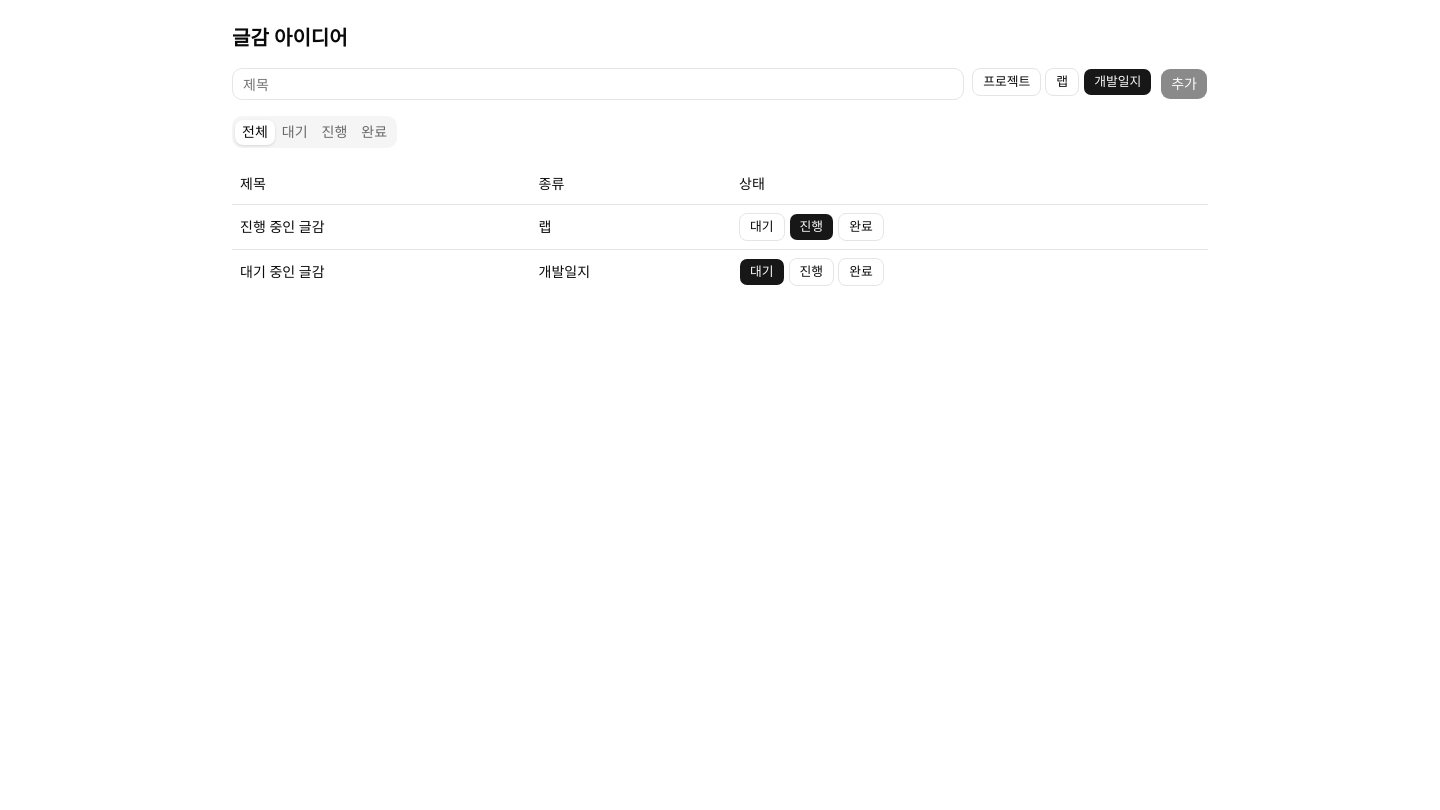
Test case: IdeasPage 수정 › 예외 › 수정 저장이 실패하면 수정 다이얼로그 안에 오류 문구가 보이고 입력이 유지되며 다시 저장해 성공할 수 있어야 한다
This screenshot has width=1440, height=810.
Click the text "진행 중인 글감": (282, 226) [232,204,531,249]
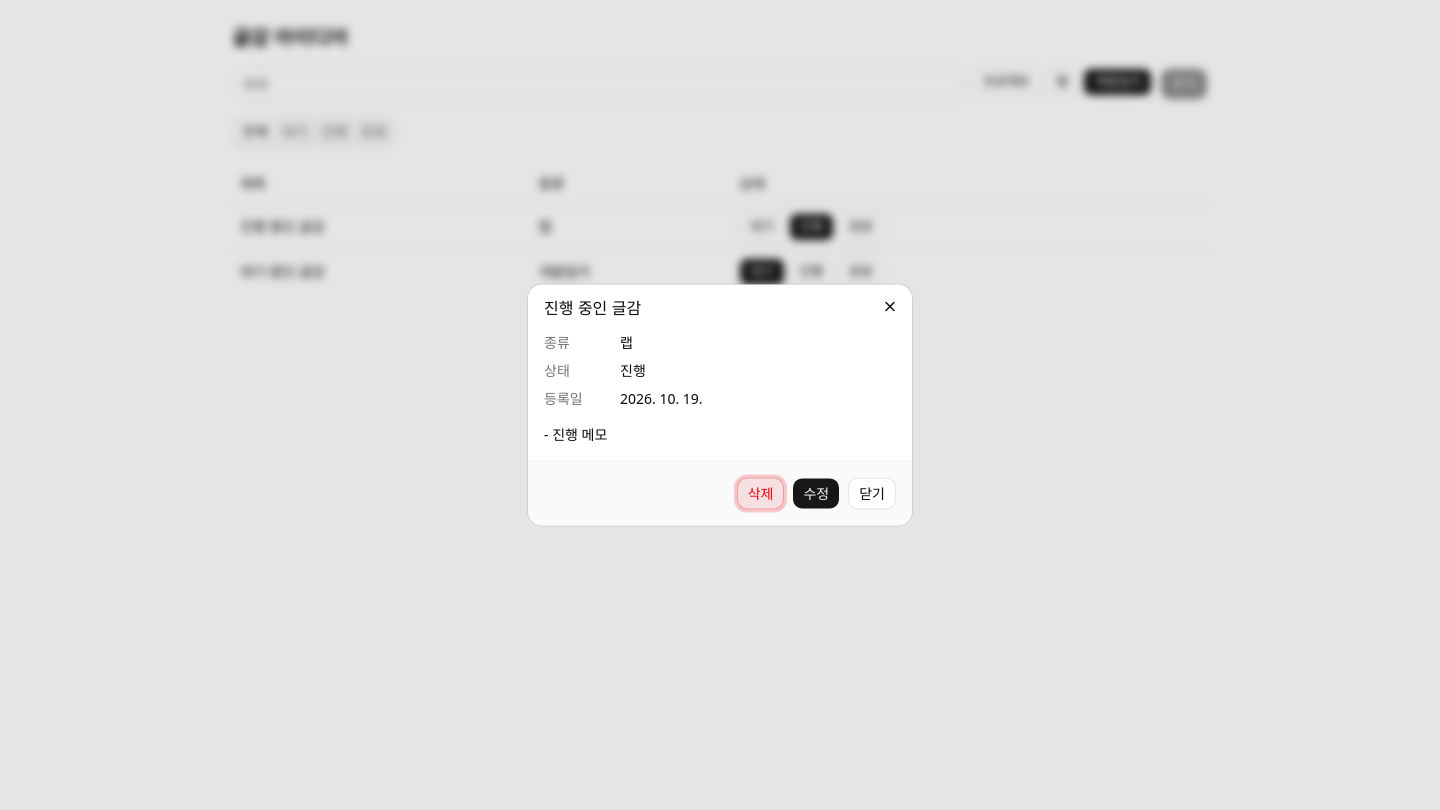
Click the button "수정": (816, 494) [792,478,840,510]
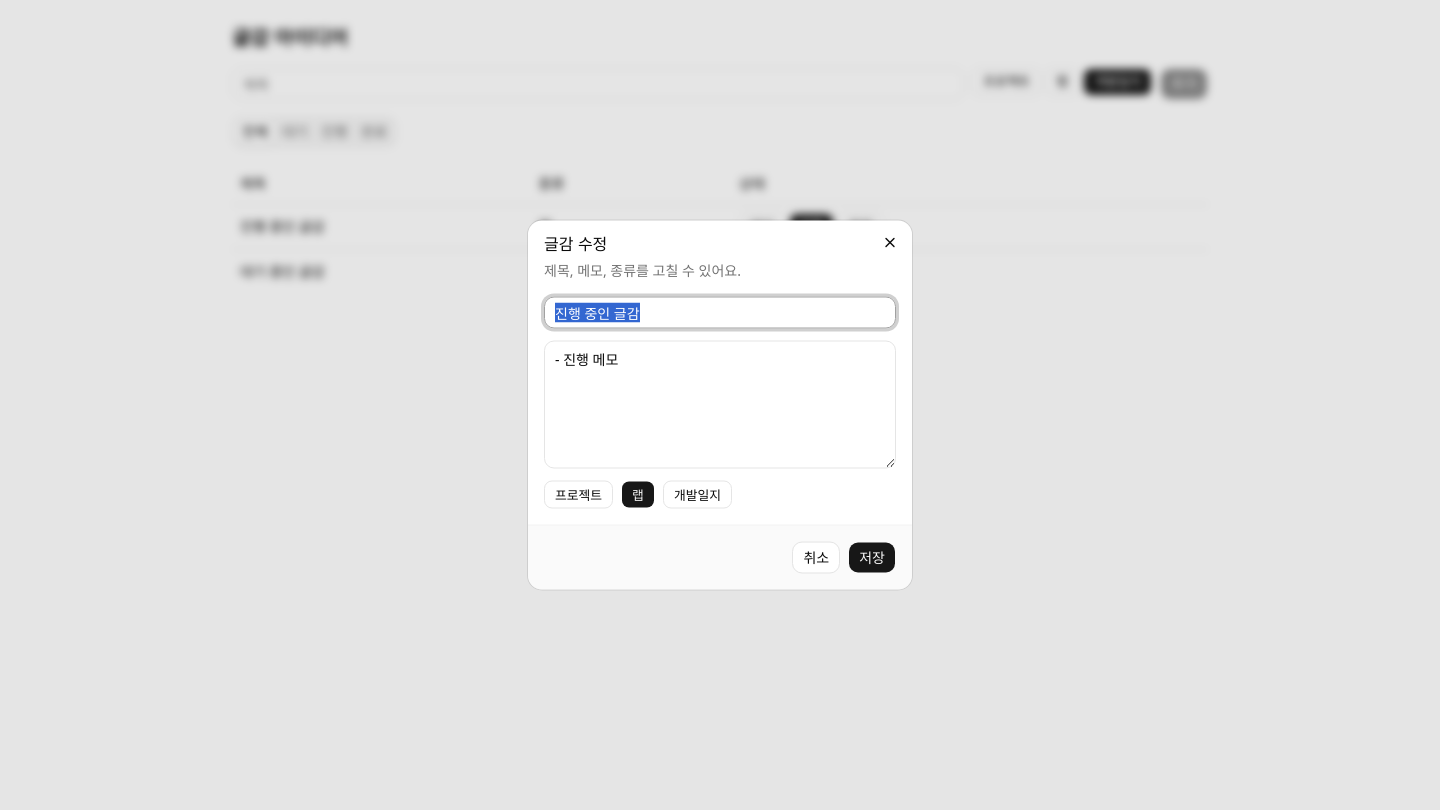
expect the button "저장" is shown: met, box [848,542,896,574]
Replace the text in the field with placeholder "제목" with "다시 저장할 제목": (720, 312) [544,296,896,328]
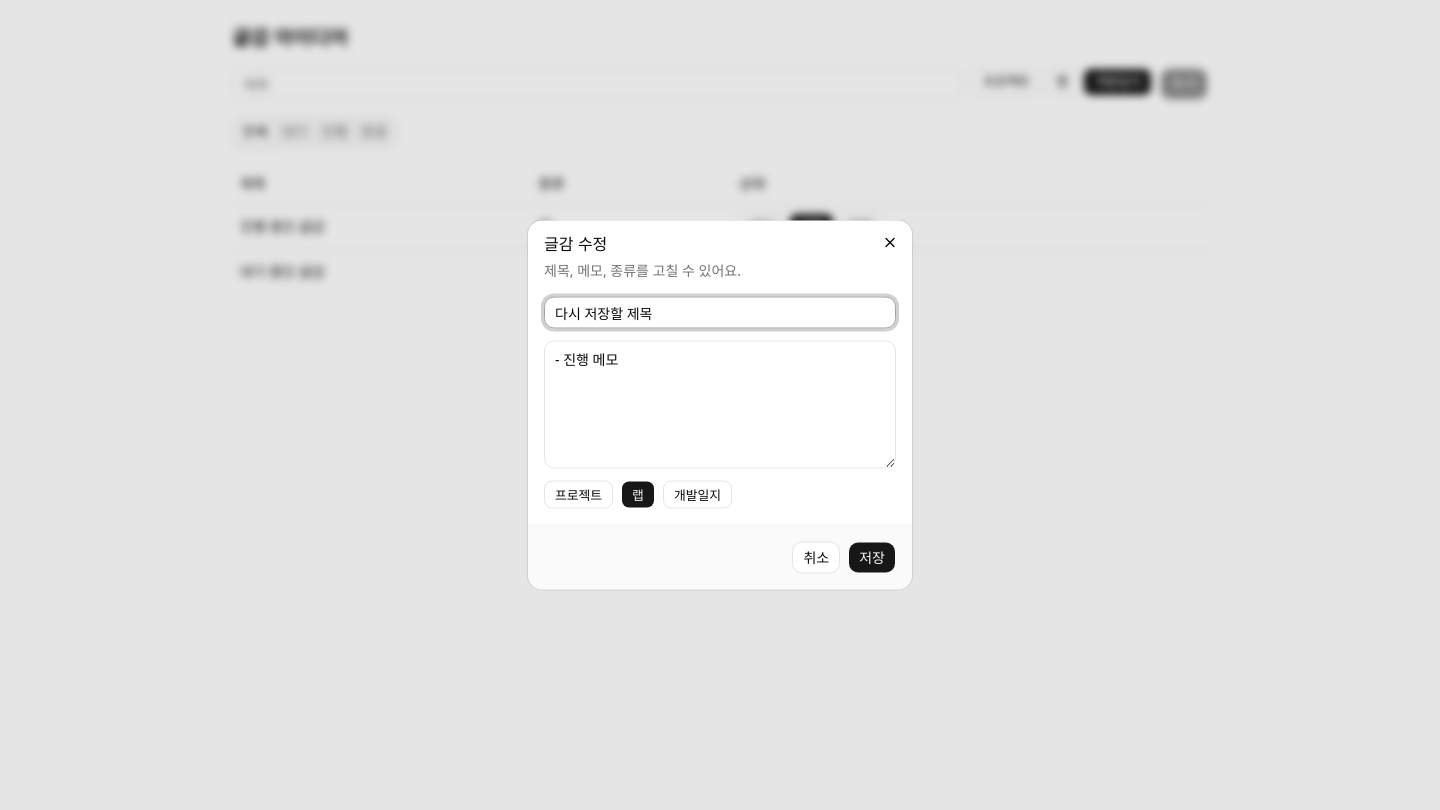
Click the button "저장": (872, 558) [848,542,896,574]
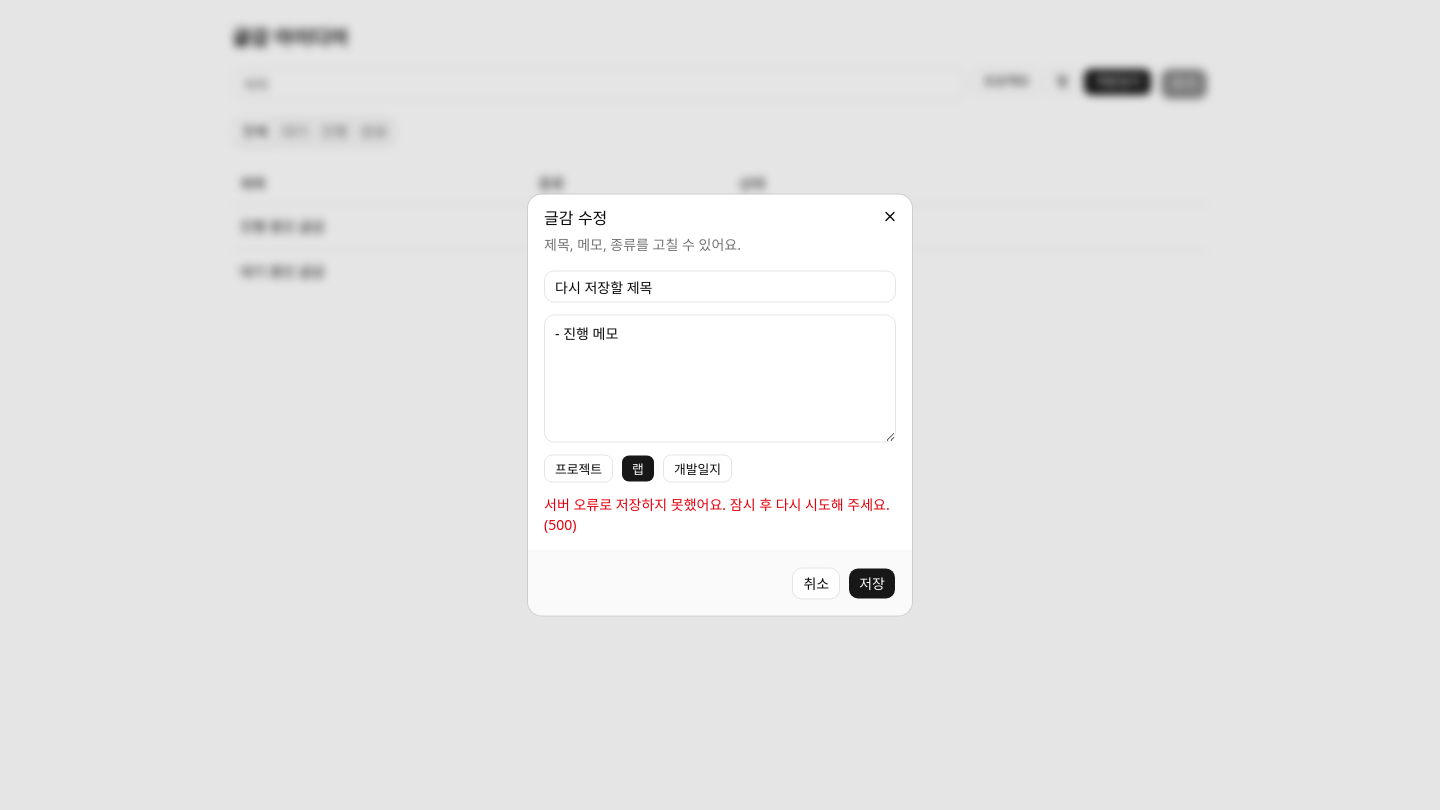
expect the message reads "서버 오류로 저장하지 못했어요. 잠시 후 다시 시도해 주세요. (500)": met, box [544,494,890,534]
Click the button "저장": (872, 584) [848,568,896,600]
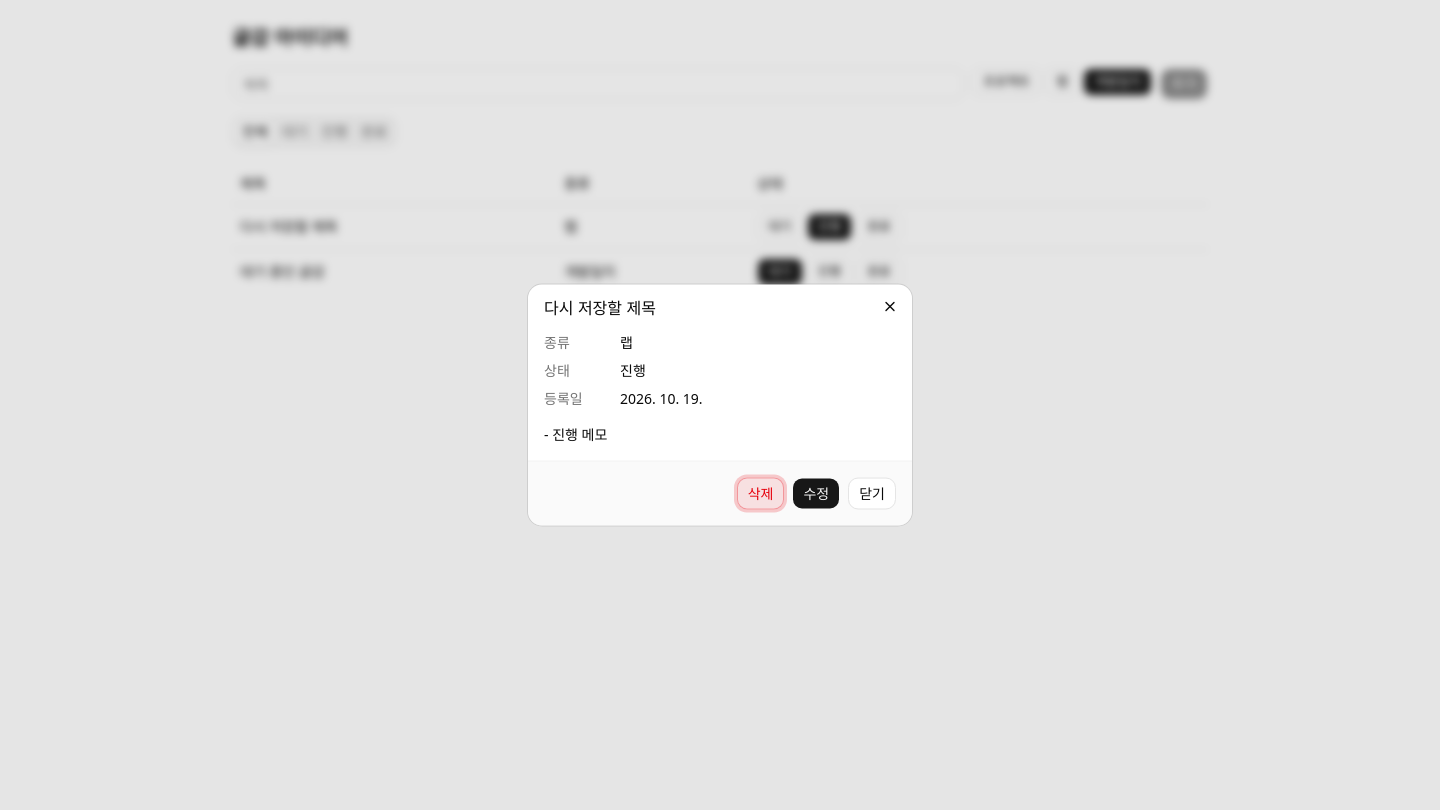
expect the heading "다시 저장할 제목" is shown: met, box [544,300,656,316]
